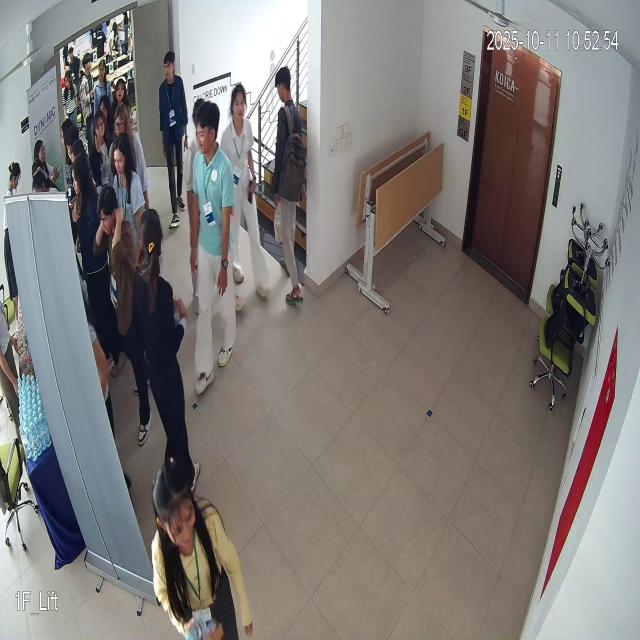face: (91, 181, 125, 243), (193, 104, 224, 166)
